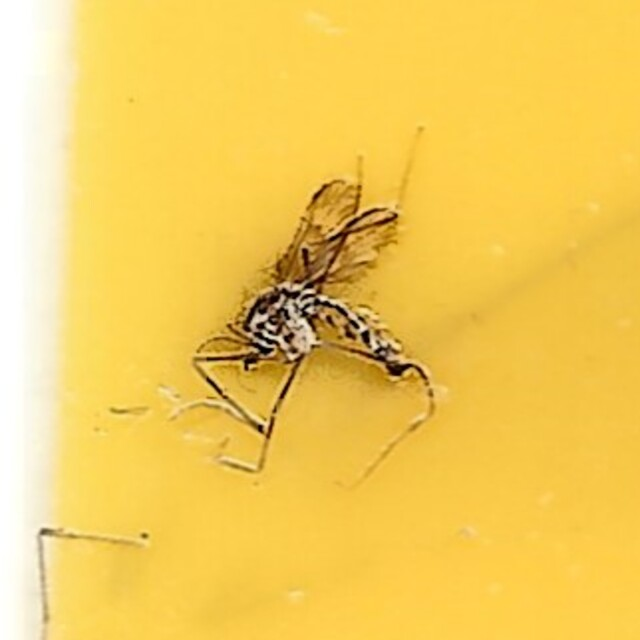Nematocera: (199, 175, 441, 465)
